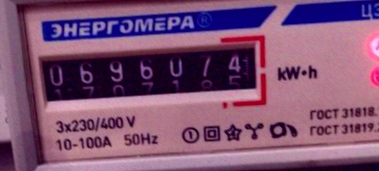0: (45, 61, 65, 86), (167, 52, 184, 78)
4: (225, 49, 242, 72)
5: (227, 74, 244, 90)
6: (138, 54, 156, 81), (77, 59, 95, 84)
7: (197, 51, 215, 77)
9: (107, 57, 124, 83)
screen: (28, 30, 272, 113)
